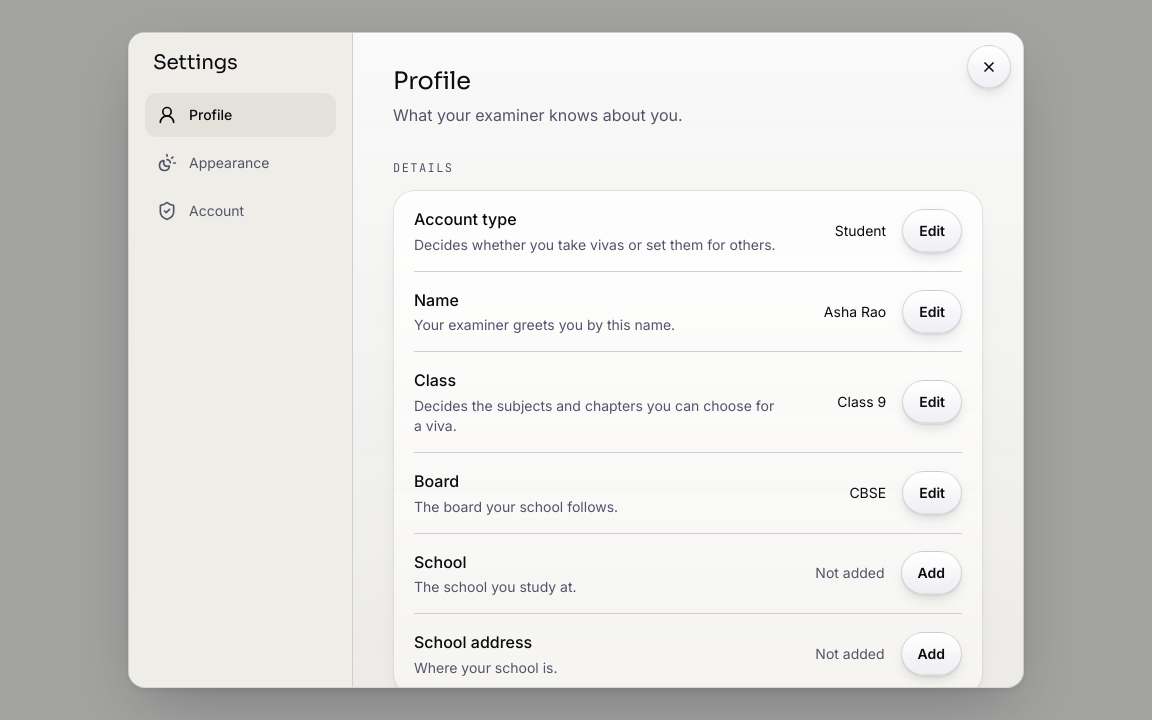
Test: changing a detail › Save sends the whole profile with that one thing changed, and shows it at once
Step 1. Click the button with aria-label "Edit name" → [932, 312], box [902,290,962,334]
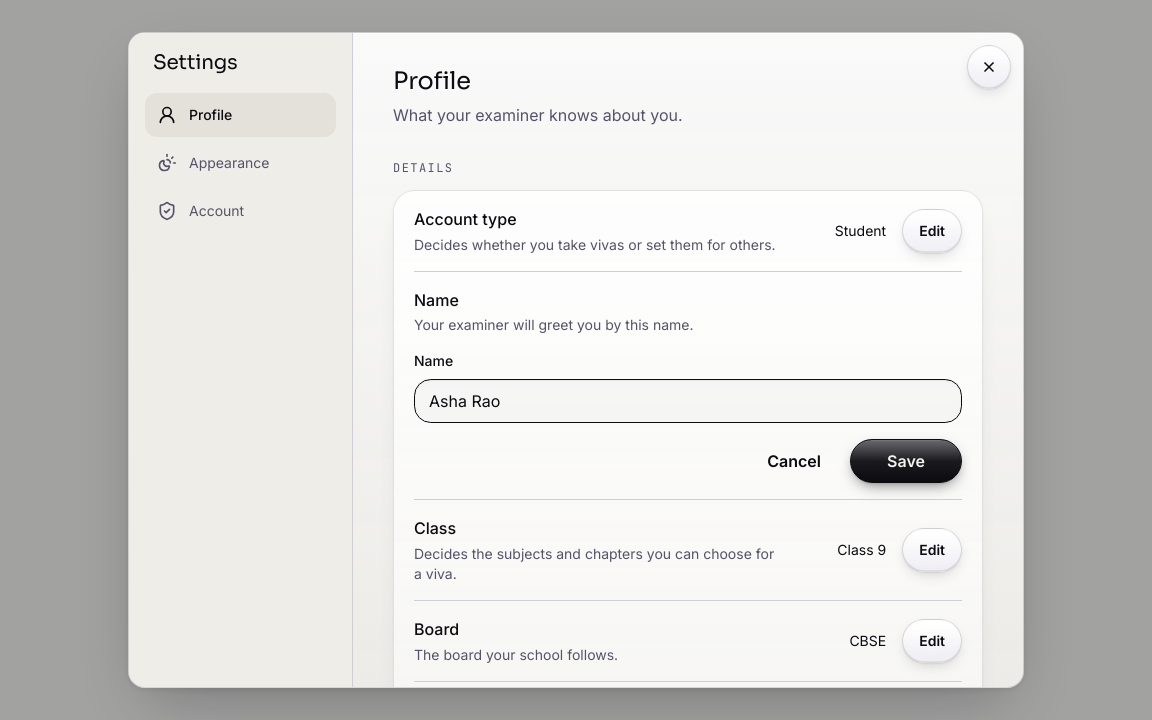
Step 2. Replace the text in the field labelled "Name" with "  Asha R  " → [688, 401], box [414,379,962,423]
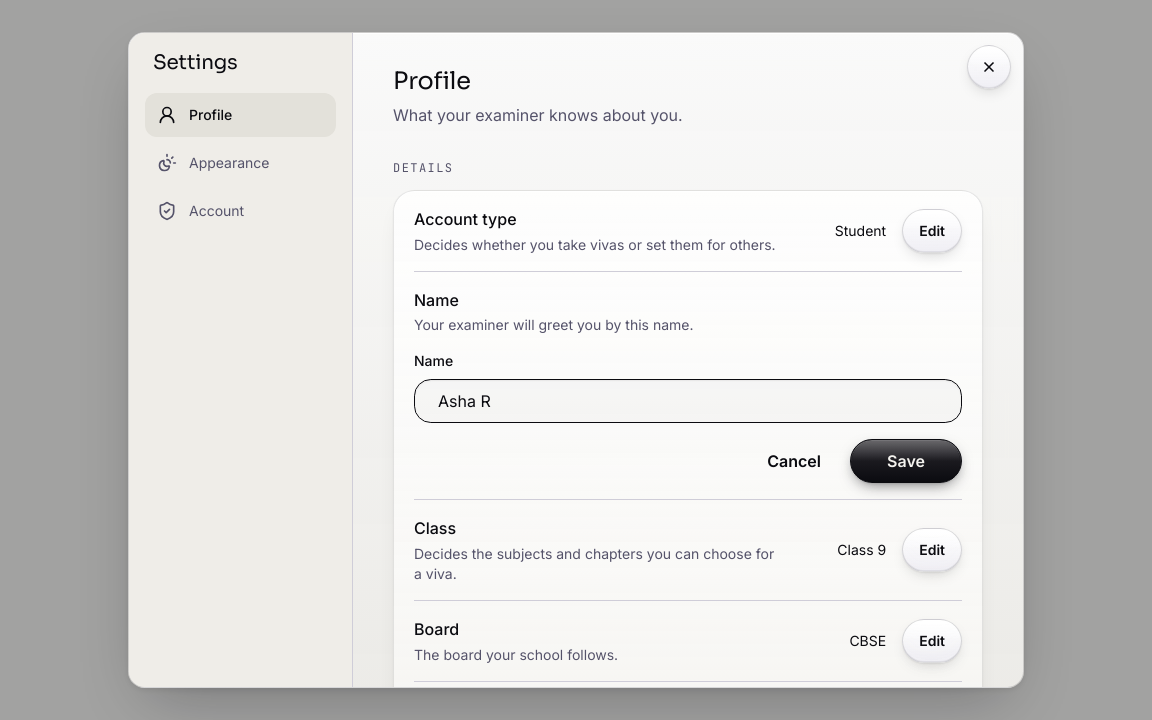
Step 3. Click the button "Save" → [906, 461], box [850,439,962,483]
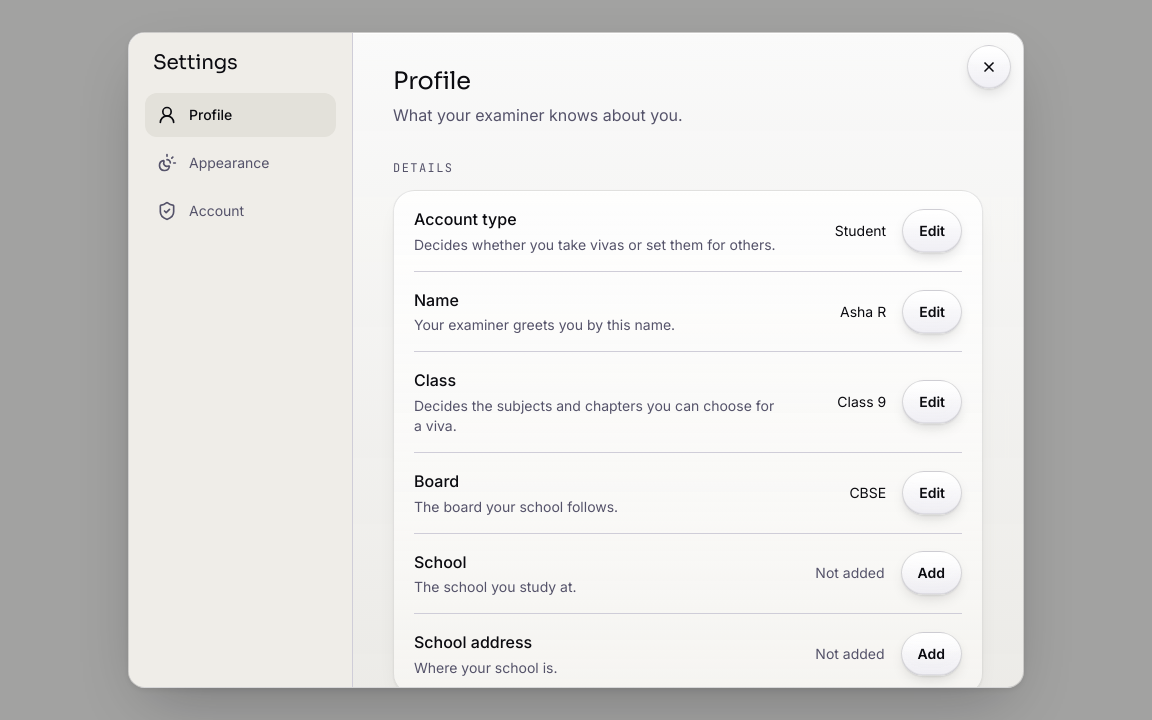
Expected: the text "Asha R" is shown, [840,302,886,322]
